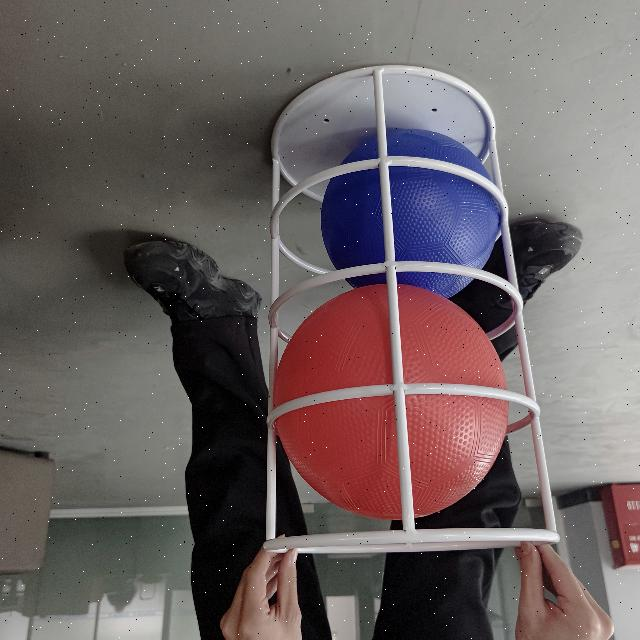B: (320, 128, 496, 294)
R: (268, 281, 554, 529)
S: (258, 56, 560, 558)
